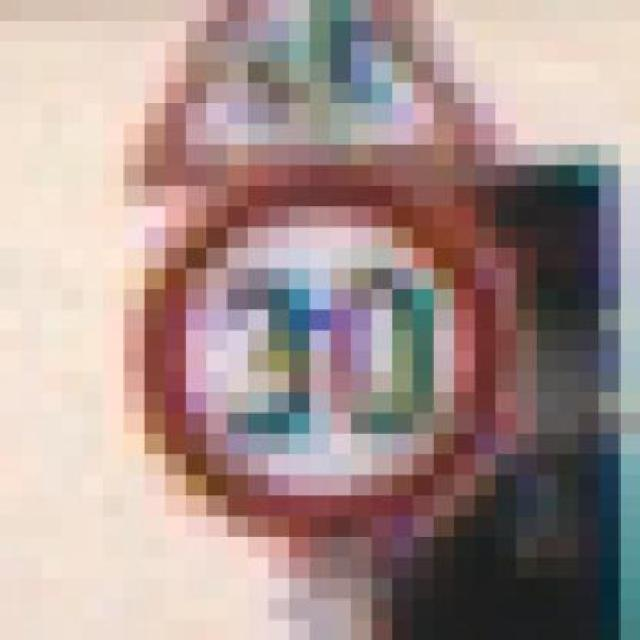Speed Limit 30 KMPh: (83, 144, 537, 578)
